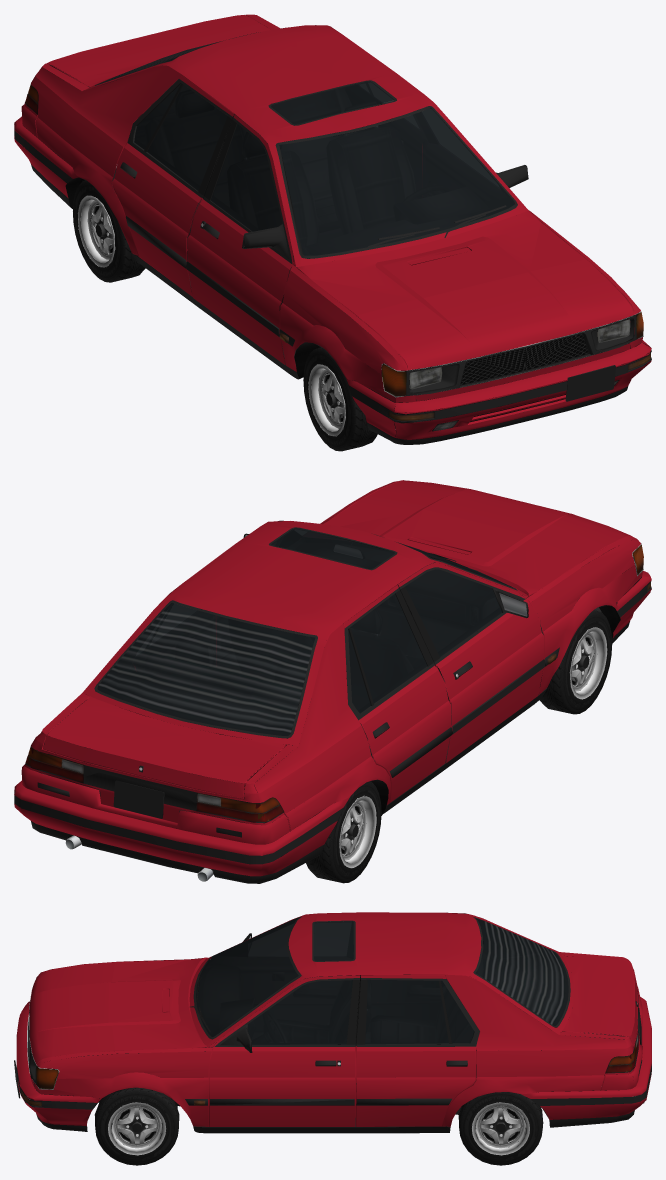
Rendered from hatch.glb.
3 views of the same model, one above another, from view 1: azimuth 30°, elevation 25°; view 2: azimuth 150°, elevation 25°; view 3: azimuth 270°, elevation 25° (orthographic). The views are drawn at different scales.
Parts seen in each view (by area): view 1: hatch; view 2: hatch; view 3: hatch.
Boxes of the visible parts, bbox=[...] form: hatch: bbox=[14, 14, 651, 451]; hatch: bbox=[14, 480, 651, 883]; hatch: bbox=[14, 912, 651, 1165].
Size of the model in its own units: 1.76 by 1.32 by 4.31.
Materials: 6 (5 with a texture image).
